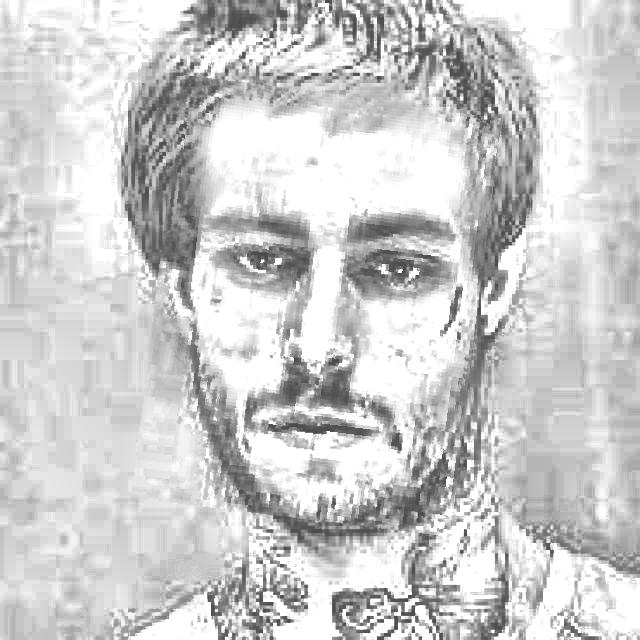sad: (144, 84, 490, 528)
